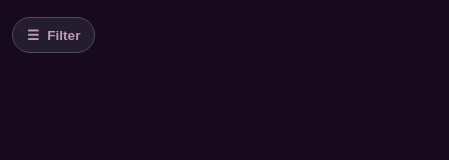
it: frontend controls › opens the genre menu and selects a genre
What coordinates should you click on to do the following:
click the button "☰ Filter"
I would click on:
 (54, 35)
Its box is [12, 17, 95, 53].
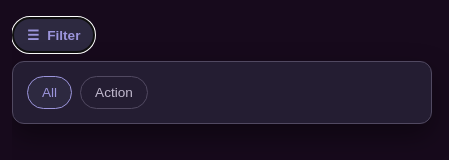
What coordinates should you click on to do the following:
click the button "Action"
I would click on:
 (114, 92)
Its box is [80, 76, 148, 109].
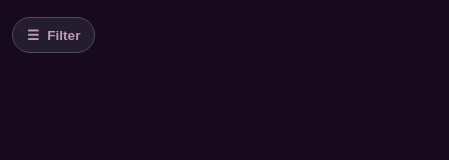
expect the button "Action" is gone: met
